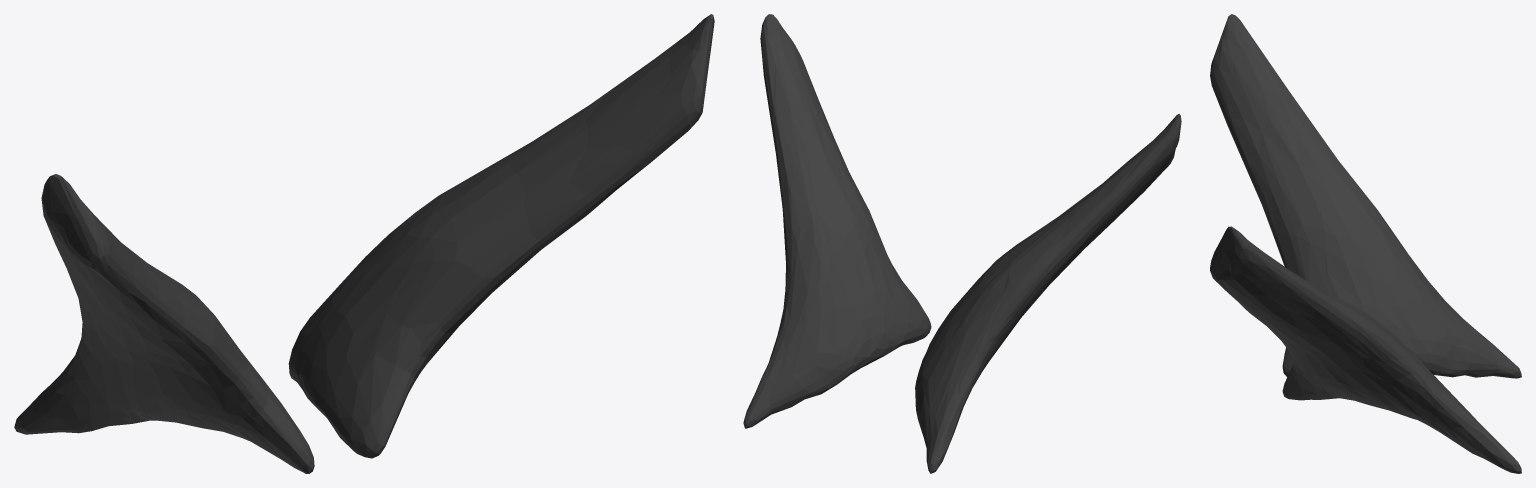
Rendered from m_adductor_magnus_et_brevis.glb.
3 views of the same model, side by side, from view 1: azimuth 30°, elevation 25°; view 2: azimuth 150°, elevation 25°; view 3: azimuth 270°, elevation 25° (orthographic). The views are drawn at different scales.
Visible parts, largest first — view 1: m_adductor_magnus_et_brevis; view 2: m_adductor_magnus_et_brevis; view 3: m_adductor_magnus_et_brevis.
Part boxes in pixels (bbox=[...]): m_adductor_magnus_et_brevis: bbox=[14, 14, 714, 473]; m_adductor_magnus_et_brevis: bbox=[743, 14, 1181, 473]; m_adductor_magnus_et_brevis: bbox=[1210, 14, 1521, 473].
Bounding box in the file's own units: 0.004 × 0.00263 × 0.00243.
Materials: 1 (1 with a texture image).
